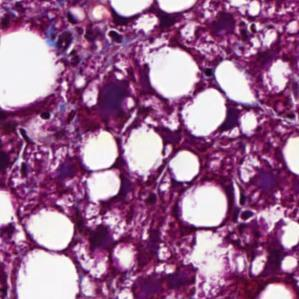inflammation: (54, 17, 122, 55), (72, 213, 120, 254)
